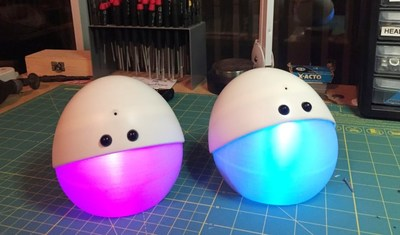mira_robot: (52, 75, 185, 218), (209, 67, 338, 205)
